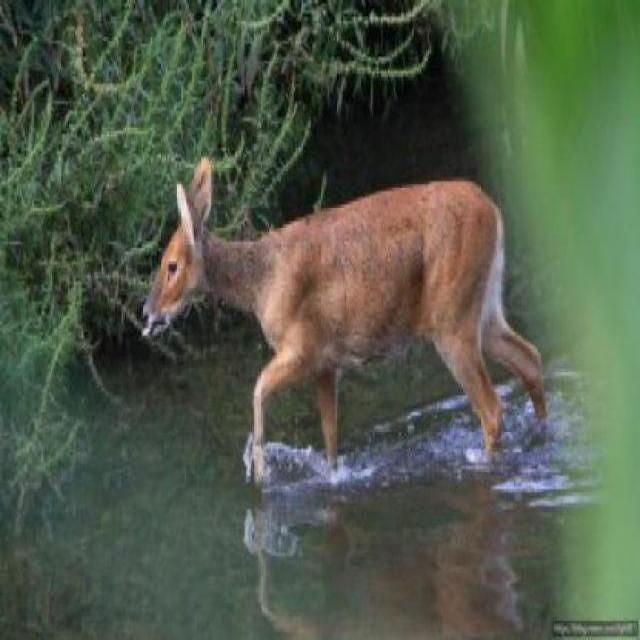deer: (123, 152, 579, 492)
